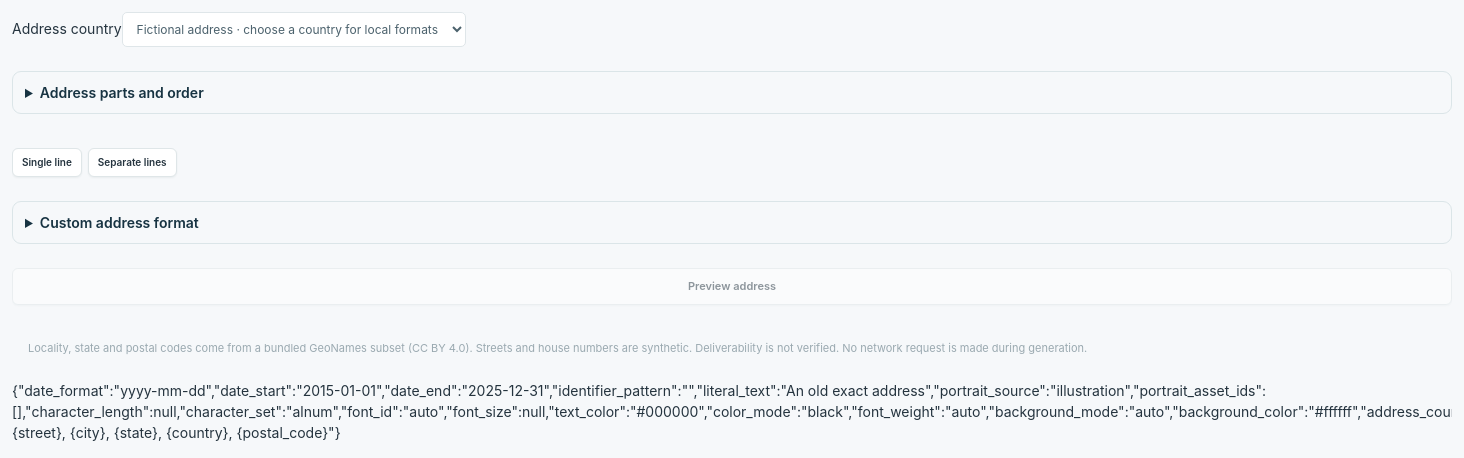
Scenario: ignores an outdated response after changing country
The image size is (1464, 458).
Select "India" in the dropdown labelled "Address country" at (294, 30), box [122, 12, 466, 47]
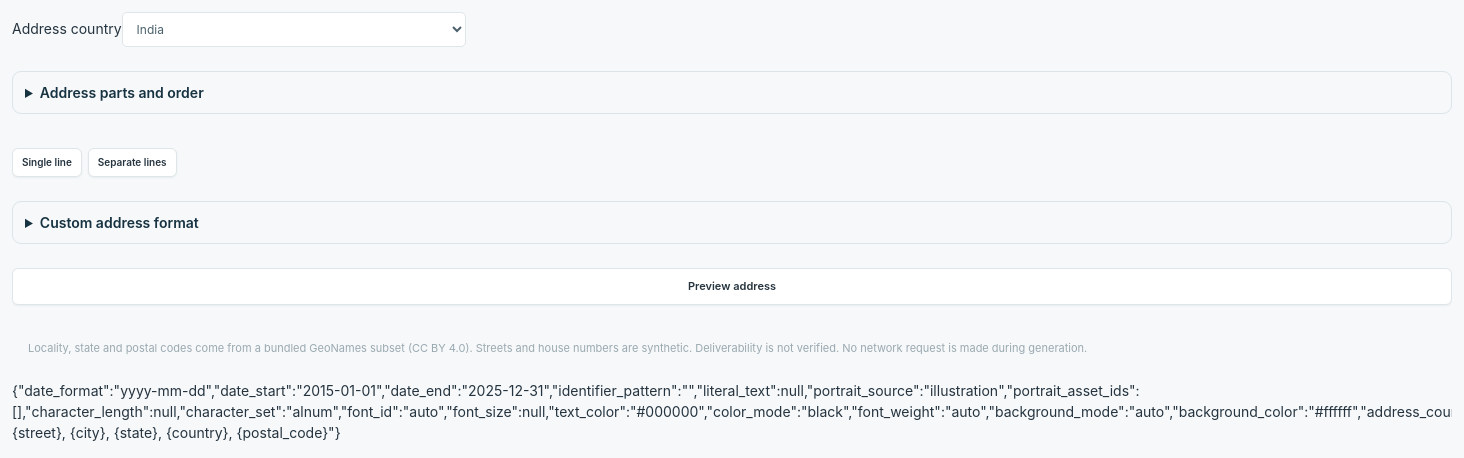
Click the button "Preview address" at (732, 286), box [12, 268, 1452, 304]
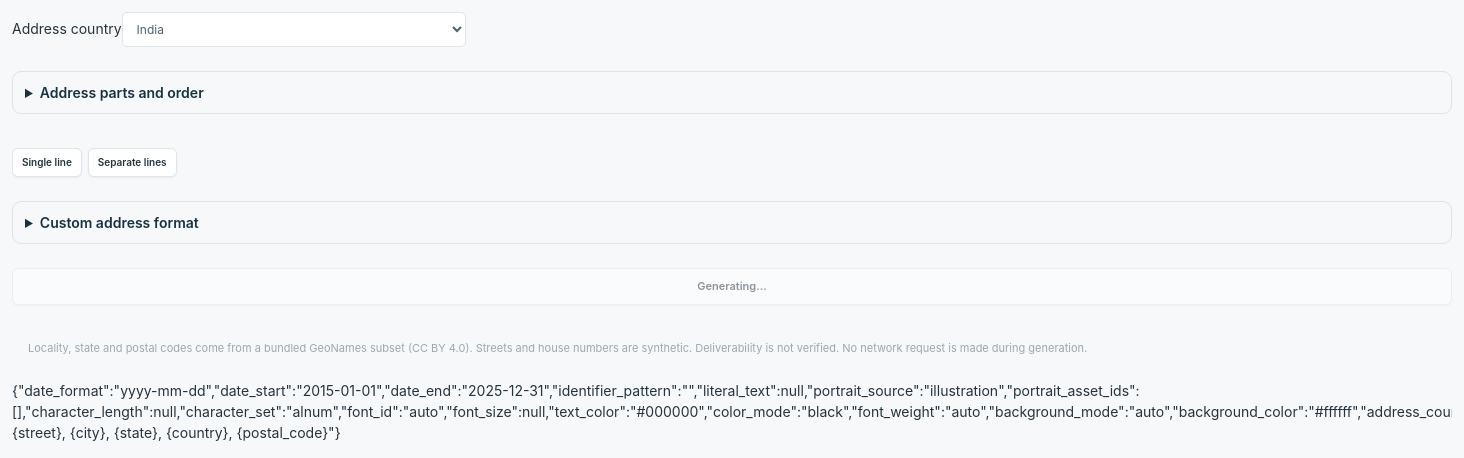
Select "United States" in the dropdown labelled "Address country" at (294, 30), box [122, 12, 466, 47]
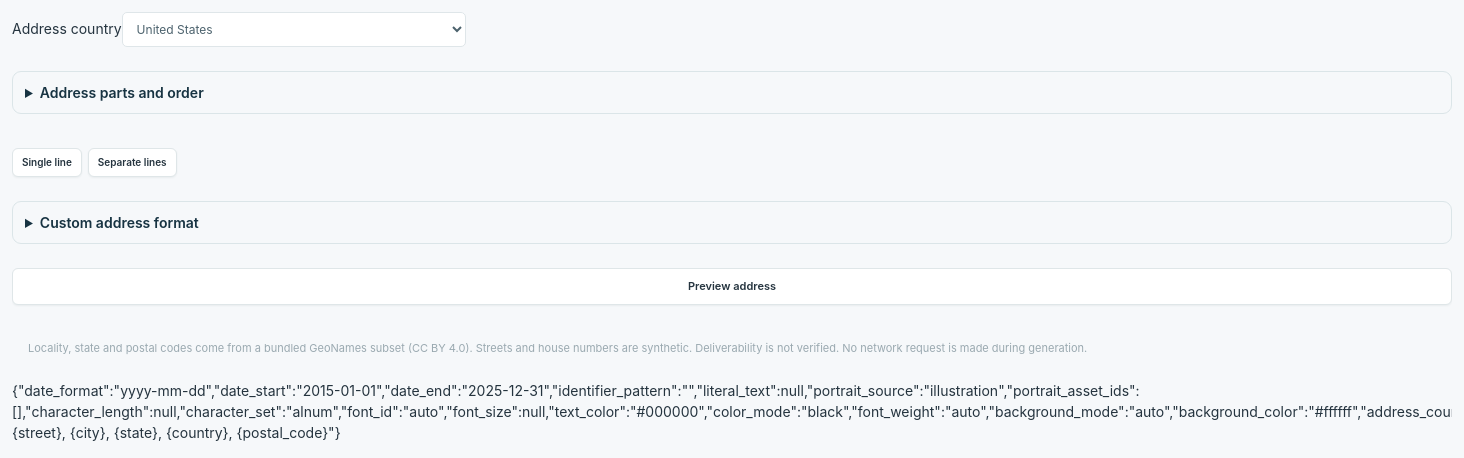
Check: the button "Preview address" is enabled, box [12, 268, 1452, 304]
